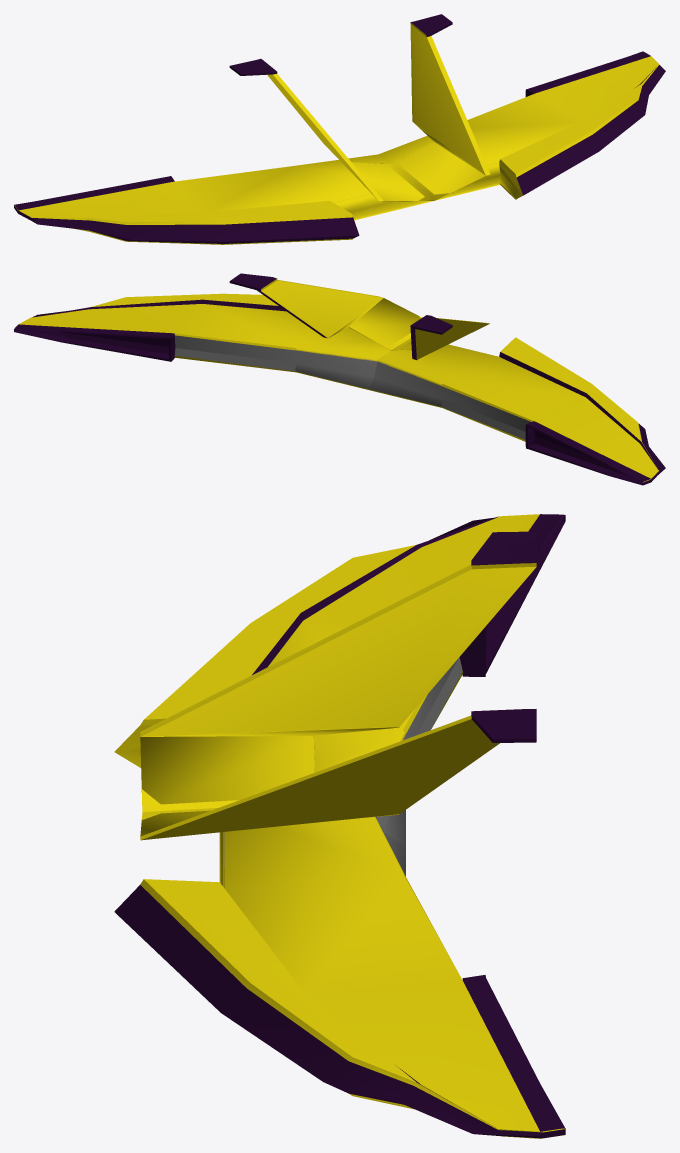
The model's file is 3_Wing.fbx.
The picture shows the model from 3 angles, top to bottom: view 1: azimuth 30°, elevation 25°; view 2: azimuth 150°, elevation 25°; view 3: azimuth 270°, elevation 25°; orthographic projection. The views are drawn at different scales.
Parts seen in each view (by area): view 1: 3_Wing; view 2: 3_Wing; view 3: 3_Wing.
Part boxes in pixels (x1,y1,x2,y2): 3_Wing: (14,14,665,244); 3_Wing: (14,273,665,485); 3_Wing: (114,514,565,1138).
Bounding box in the file's own units: 4.76 × 0.7787 × 1.47.
